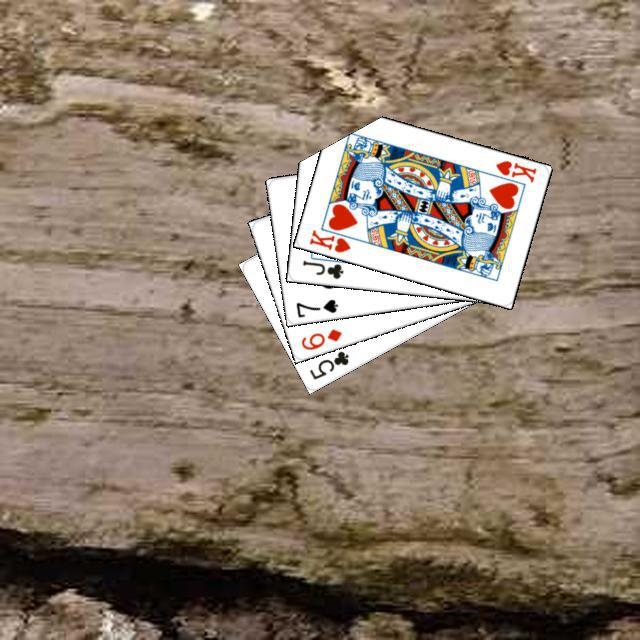5c: (304, 346, 351, 381)
6d: (296, 324, 344, 352)
7s: (291, 294, 340, 319)
Jc: (298, 255, 345, 281)
Kh: (304, 221, 359, 254), (490, 155, 538, 184)
